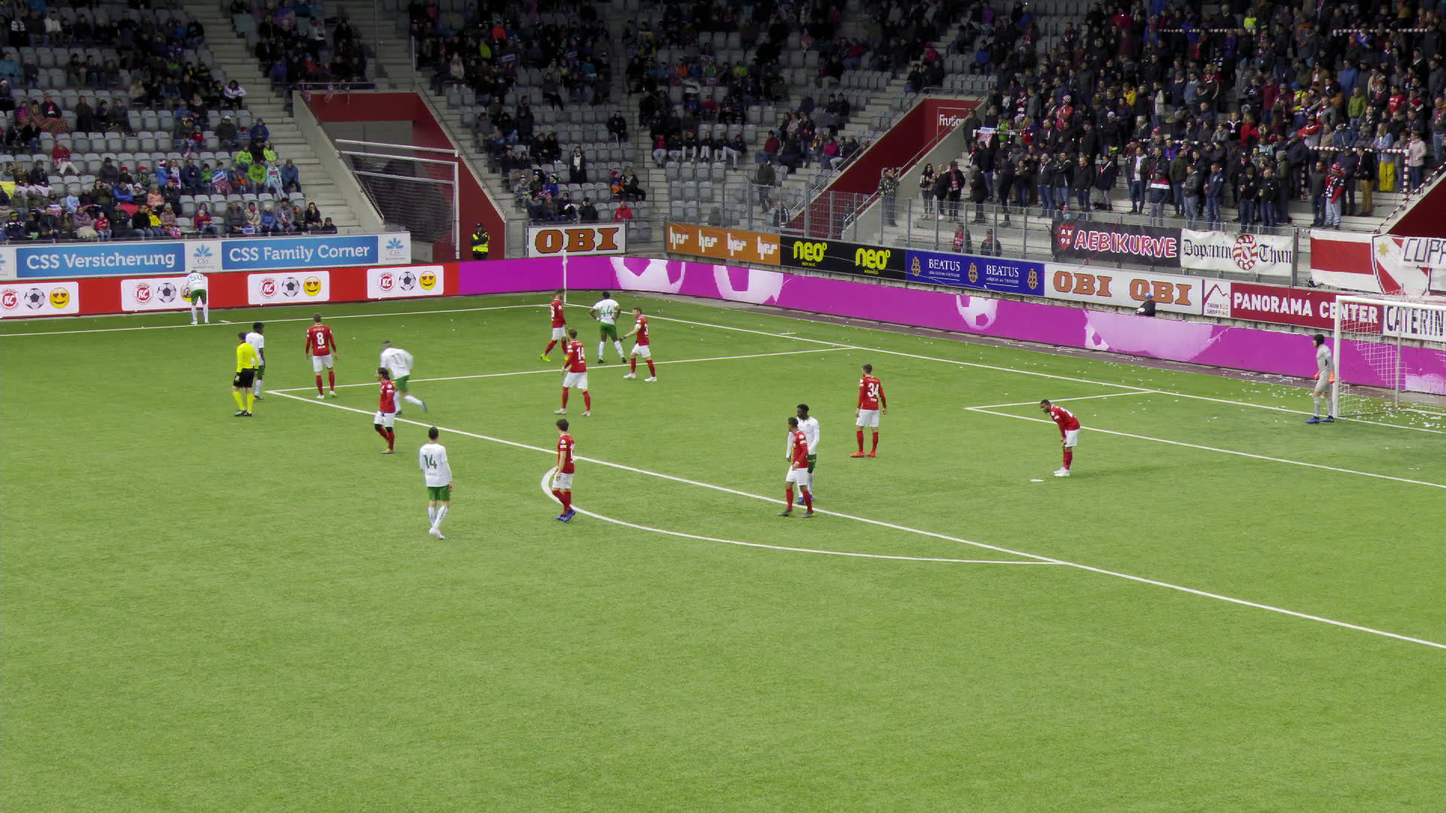ball: (184, 288, 191, 297)
player: (770, 413, 819, 520), (416, 424, 459, 540), (842, 361, 890, 461), (374, 337, 430, 418), (544, 415, 585, 522), (786, 401, 824, 509), (548, 324, 592, 415), (1036, 396, 1081, 480), (1299, 330, 1338, 425), (612, 301, 657, 382), (302, 311, 340, 403), (587, 288, 630, 366), (536, 285, 577, 364), (368, 364, 402, 455), (236, 318, 270, 402), (180, 266, 212, 324)
referee: (227, 327, 261, 417)
